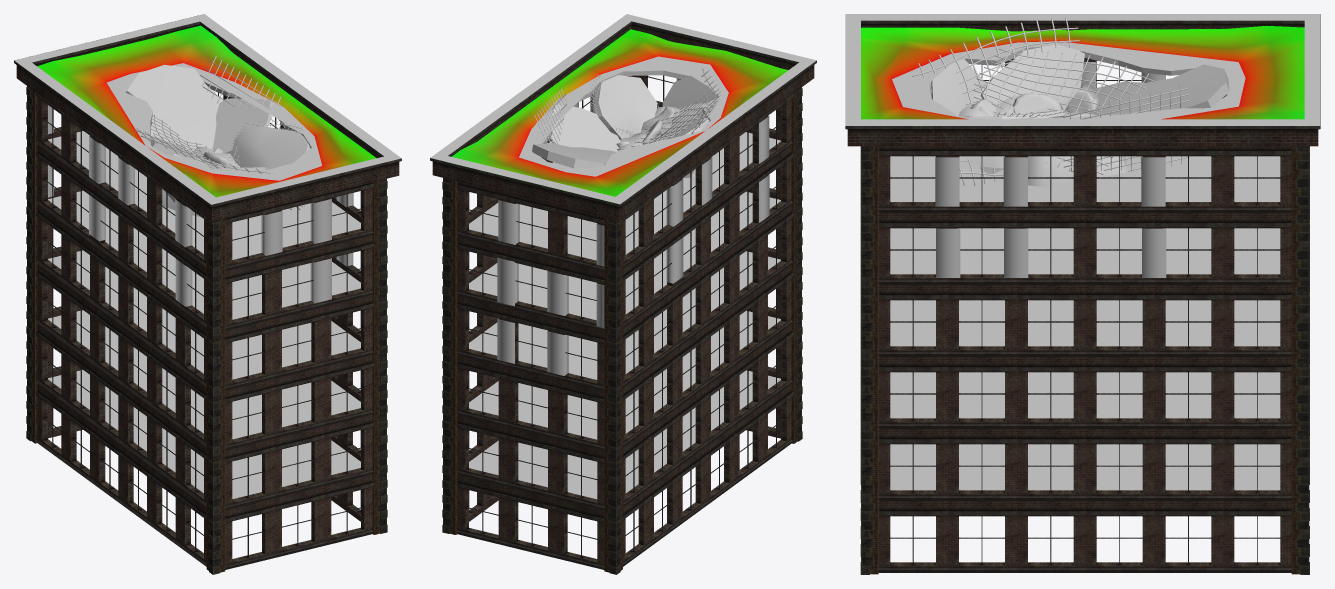
The model's file is BuildingRedSm03.fbx.
3 views of the same model, side by side, from view 1: azimuth 30°, elevation 25°; view 2: azimuth 150°, elevation 25°; view 3: azimuth 270°, elevation 25° (orthographic). The views are drawn at different scales.
Parts seen in each view (by area): view 1: Plane.030, Cube.006, Cube.066, Cube.012, Plane.033, Cube.043, Cube.044, Cube.045, Cube.020, Cube.022, Cube.038, Cube.039 (+4 smaller); view 2: Plane.030, Cube.006, Cube.066, Cube.012, Plane.033, Cube.036, Cube.035, Cube.022, Cube.033, Cube.031, Cube.034, Cube.041 (+3 smaller); view 3: Plane.030, Cube.006, Cube.066, Cube.012, Plane.033, Cube.022, Plane.029, Cube.021, Cube.024, Cube.026, Cube.028, Cube.017 (+4 smaller).
Part boxes in pixels (<box>): Plane.030: <box>26,86,387,574</box>; Cube.006: <box>14,14,401,221</box>; Cube.066: <box>37,25,376,197</box>; Cube.012: <box>111,64,317,211</box>; Plane.033: <box>106,63,322,180</box>; Cube.043: <box>261,210,282,255</box>; Cube.044: <box>310,199,331,243</box>; Cube.045: <box>310,258,331,303</box>; Cube.020: <box>200,56,282,121</box>; Cube.022: <box>150,114,239,167</box>; Cube.038: <box>175,258,192,306</box>; Cube.039: <box>175,199,192,247</box>; Plane.030: <box>442,75,802,574</box>; Cube.006: <box>430,14,816,220</box>; Cube.066: <box>451,29,788,201</box>; Cube.012: <box>529,65,723,178</box>; Plane.033: <box>519,56,728,198</box>; Cube.036: <box>497,257,518,305</box>; Cube.035: <box>547,330,568,375</box>; Cube.022: <box>616,102,707,152</box>; Cube.033: <box>498,200,519,244</box>; Cube.031: <box>547,271,568,315</box>; Cube.034: <box>497,318,518,363</box>; Cube.041: <box>666,179,683,226</box>; Plane.030: <box>860,58,1309,574</box>; Cube.006: <box>845,14,1320,146</box>; Cube.066: <box>861,25,1304,119</box>; Cube.012: <box>919,44,1233,174</box>; Plane.033: <box>892,41,1245,119</box>; Cube.022: <box>973,44,1153,174</box>; Plane.029: <box>1028,111,1127,186</box>; Cube.021: <box>912,17,1082,185</box>; Cube.024: <box>1141,156,1165,206</box>; Cube.026: <box>1003,156,1027,206</box>; Cube.028: <box>935,156,959,206</box>; Cube.017: <box>1142,228,1166,277</box>.
Size of what is drawn, in the model's own units: 1360 by 2651 by 2440.
